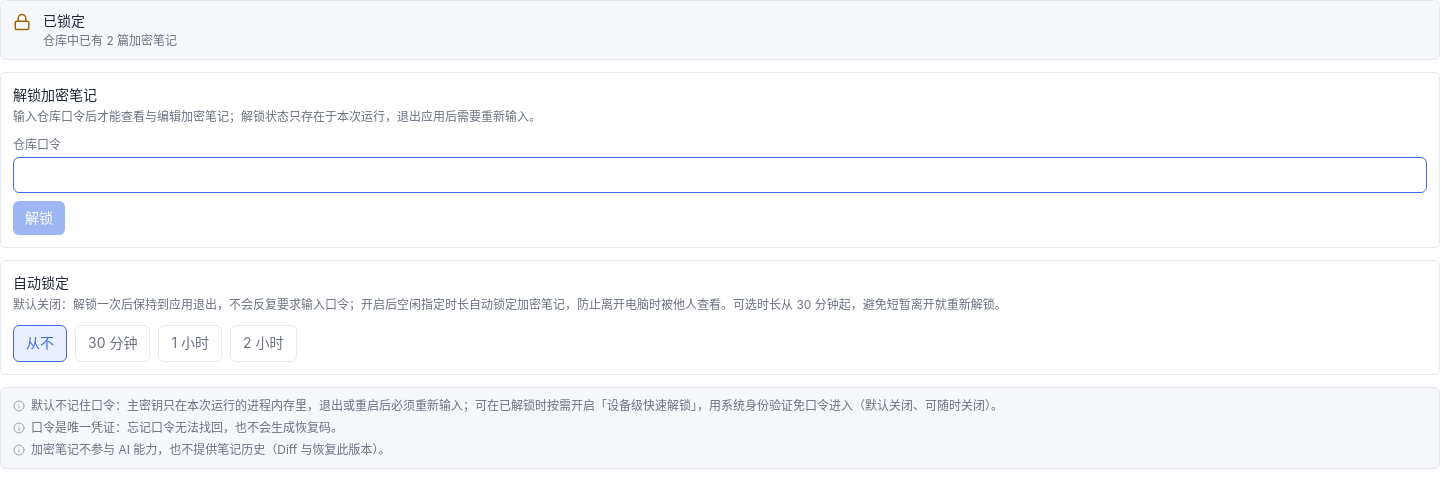
Test case: VaultSettings › 已建库未解锁时提示输入口令，口令错误展示本地化文案
Expected: the text "解锁加密笔记" is shown, [13,86,97,103]
In the password field labelled "仓库口令": (720, 175) [13,157,1427,193], type "wrong passphrase here"
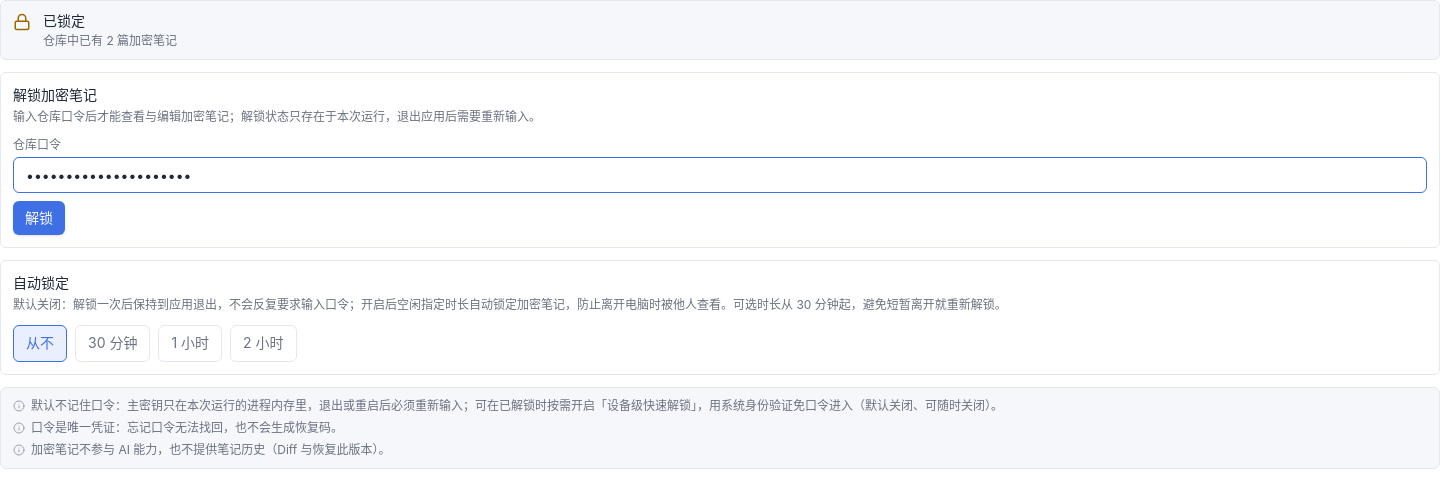
Click the button "解锁": (39, 218) [13,201,65,235]
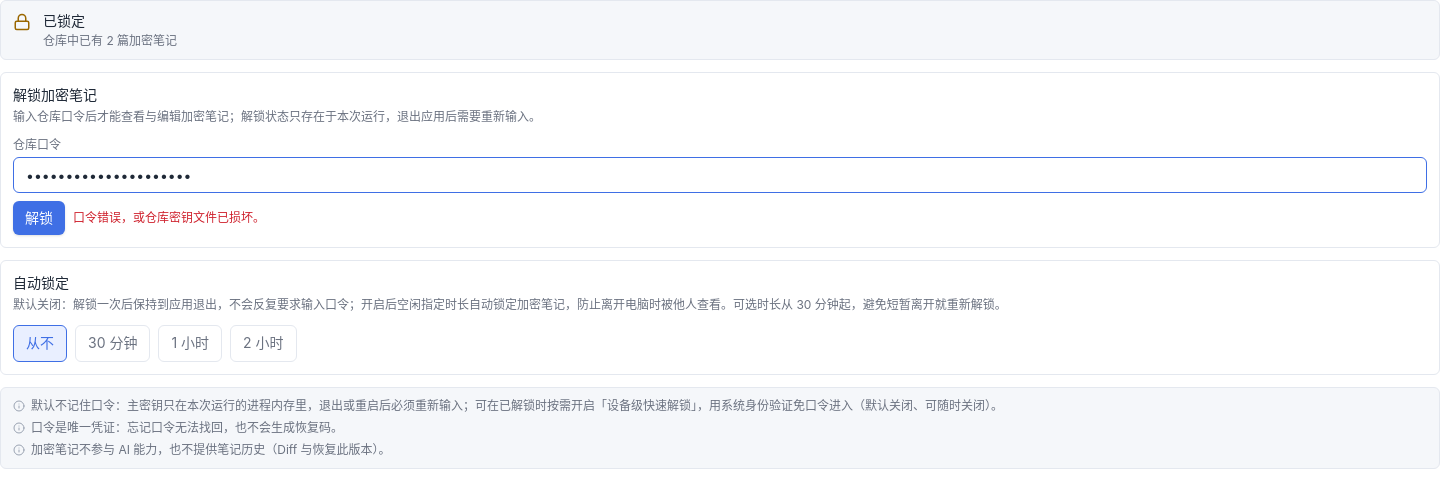
Expected: the text "口令错误，或仓库密钥文件已损坏。" is shown, [73,210,265,226]
